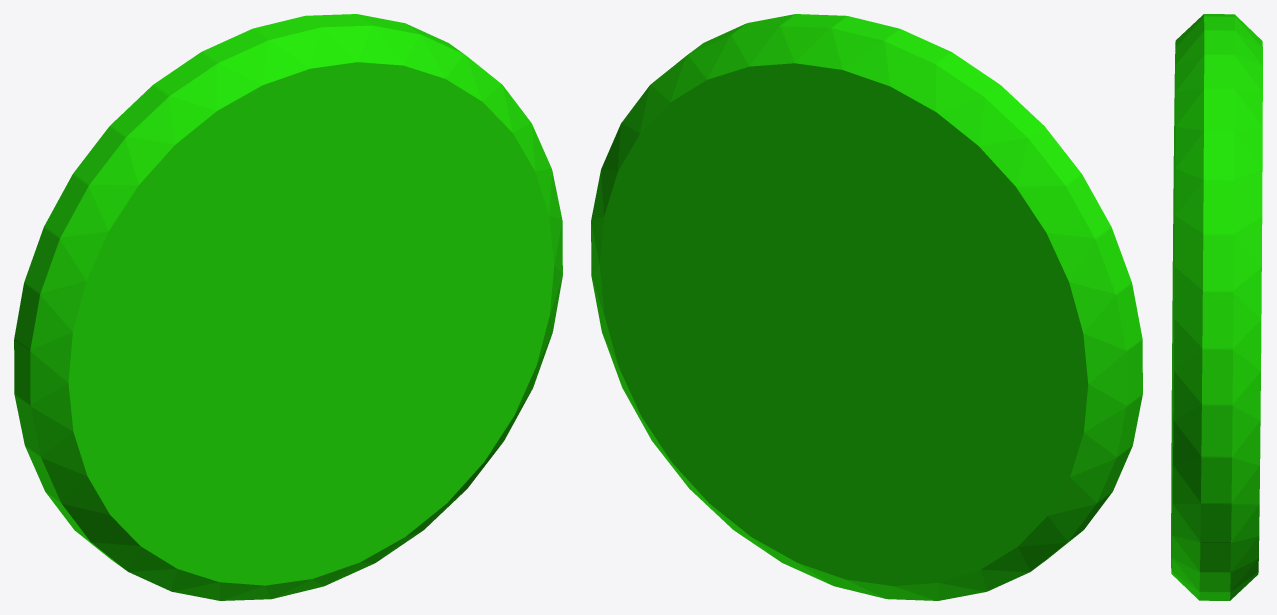
3 renders of one model, left to right at view 1: azimuth 30°, elevation 25°; view 2: azimuth 150°, elevation 25°; view 3: azimuth 270°, elevation 25°, orthographic. The views are drawn at different scales.
Visible parts, largest first — view 1: Цилиндр; view 2: Цилиндр; view 3: Цилиндр.
Part boxes in pixels (bbox=[...]): Цилиндр: bbox=[14, 14, 562, 600]; Цилиндр: bbox=[591, 14, 1142, 600]; Цилиндр: bbox=[1171, 14, 1262, 600].
Size of the model in its own units: 2.97 by 2.97 by 0.4668.
